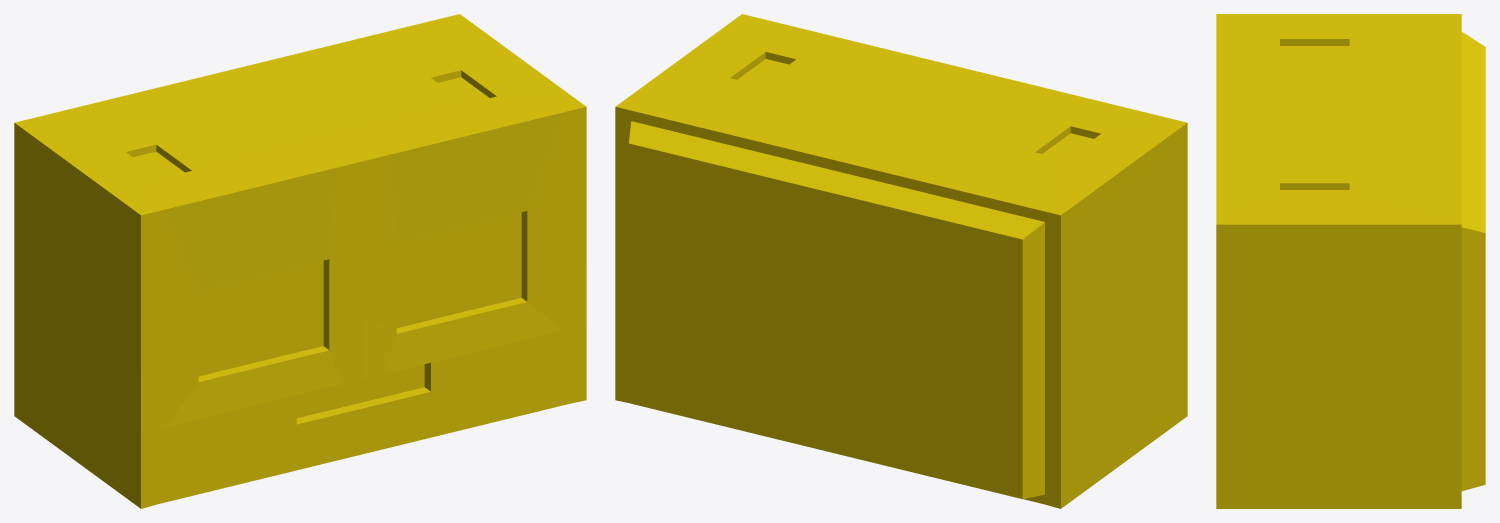
The model's file is Cabeça_Vazia.fbx.
3 renders of one model, left to right at view 1: azimuth 30°, elevation 25°; view 2: azimuth 150°, elevation 25°; view 3: azimuth 270°, elevation 25°, orthographic. The views are drawn at different scales.
Parts seen in each view (by area): view 1: Cabeça_Vazia; view 2: Cabeça_Vazia; view 3: Cabeça_Vazia.
Boxes of the visible parts, box(x1,y1,x2,y2) form: Cabeça_Vazia: box(14, 14, 586, 508); Cabeça_Vazia: box(615, 14, 1187, 508); Cabeça_Vazia: box(1216, 14, 1485, 508).
Bounding box in the file's own units: 200 × 126 × 108.
